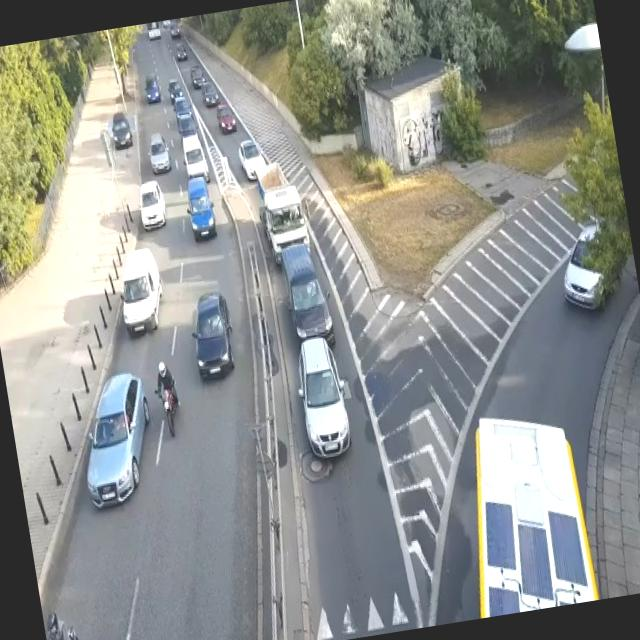bike: (154, 355, 183, 439), (42, 605, 89, 640)
bus: (446, 393, 602, 619)
car: (74, 371, 167, 513), (291, 335, 354, 461), (552, 212, 626, 316), (279, 240, 333, 342), (112, 247, 170, 340), (188, 288, 240, 379), (184, 176, 219, 244), (177, 131, 212, 190), (136, 180, 168, 232), (237, 138, 271, 182), (146, 134, 173, 175), (106, 112, 134, 151), (170, 91, 196, 123), (142, 72, 162, 110), (215, 106, 238, 134), (200, 79, 220, 110), (173, 43, 190, 67), (168, 80, 184, 100), (168, 18, 182, 38), (191, 73, 207, 90)
truck: (250, 150, 318, 272)
